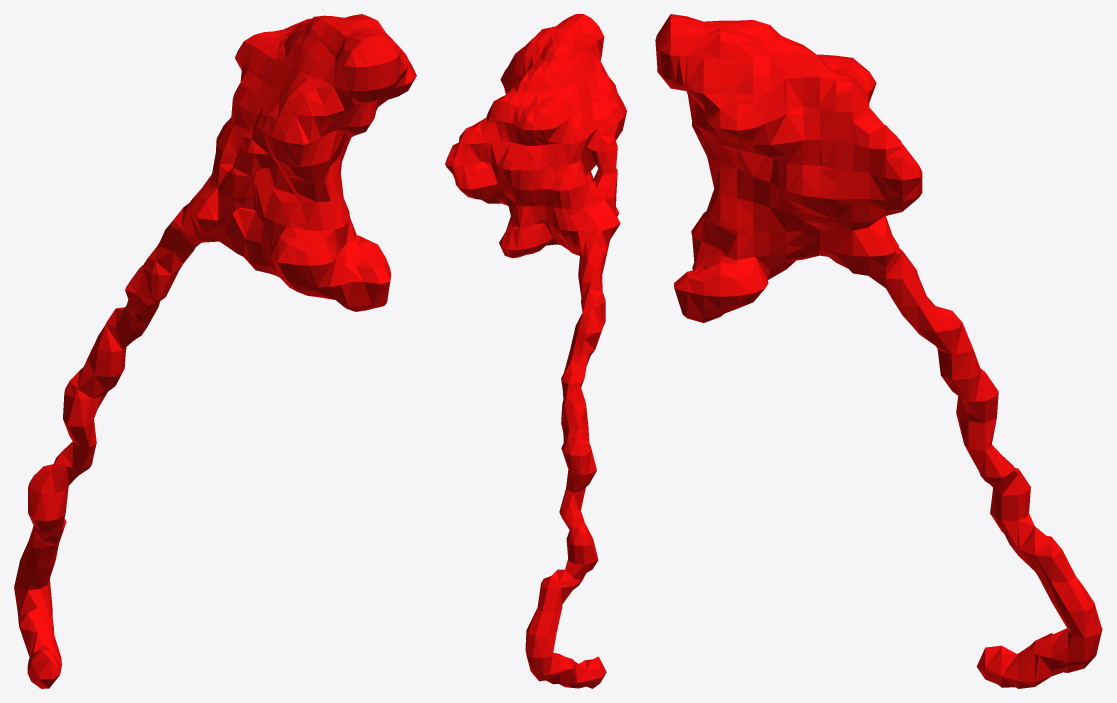
The model's file is ptsG_coarse.dae.
3 renders of one model, left to right at view 1: azimuth 30°, elevation 25°; view 2: azimuth 150°, elevation 25°; view 3: azimuth 270°, elevation 25°, orthographic. The views are drawn at different scales.
Parts seen in each view (by area): view 1: ptsG; view 2: ptsG; view 3: ptsG.
Part boxes in pixels (x1,y1,x2,y2): ptsG: (14, 14, 416, 688); ptsG: (445, 14, 626, 688); ptsG: (655, 14, 1102, 688).
Bounding box in the file's own units: 77.79 × 209 × 112.
